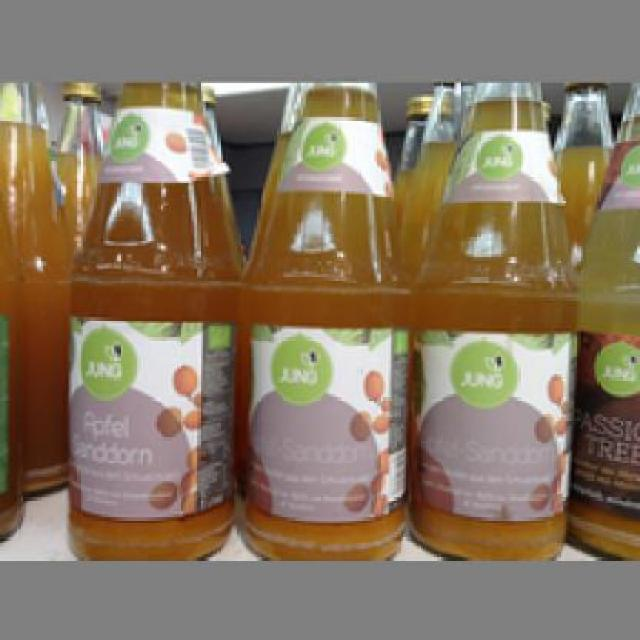Juice: (234, 79, 417, 555), (60, 82, 237, 558), (412, 79, 572, 555)
